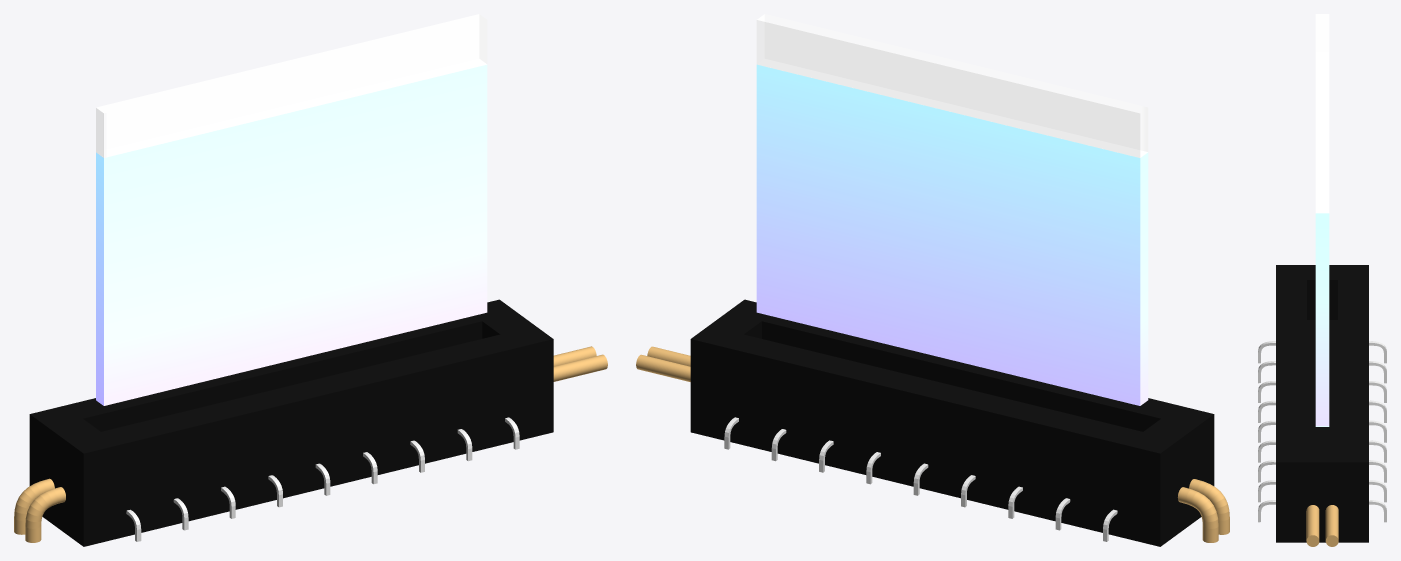
Rendered from betabd.glb.
3 views of the same model, side by side, from view 1: azimuth 30°, elevation 25°; view 2: azimuth 150°, elevation 25°; view 3: azimuth 270°, elevation 25° (orthographic). The views are drawn at different scales.
Parts seen in each view (by area): view 1: Cube.105, Base.001, Cube.106, Plane.218, Left-Energy-Connector.002, Left-Energy-Connector.006, Cylinder.011; view 2: Cube.105, Base.001, Cube.106, Plane.218, Left-Energy-Connector.006, Left-Energy-Connector.002, Cylinder.007; view 3: Base.001, Cube.105, Cube.106, Plane.218, Cylinder.011, Cylinder.007.
Part boxes in pixels (x1=…): Cube.105: x1=96, y1=64, x2=487, y2=405; Base.001: x1=29, y1=299, x2=553, y2=546; Cube.106: x1=96, y1=14, x2=487, y2=157; Plane.218: x1=126, y1=417, x2=519, y2=541; Left-Energy-Connector.002: x1=25, y1=487, x2=65, y2=542; Left-Energy-Connector.006: x1=14, y1=478, x2=54, y2=534; Cylinder.011: x1=553, y1=354, x2=607, y2=381; Cube.105: x1=756, y1=64, x2=1148, y2=405; Base.001: x1=690, y1=299, x2=1214, y2=546; Cube.106: x1=756, y1=14, x2=1148, y2=157; Plane.218: x1=724, y1=417, x2=1117, y2=541; Left-Energy-Connector.006: x1=1177, y1=487, x2=1218, y2=542; Left-Energy-Connector.002: x1=1189, y1=479, x2=1229, y2=534; Cylinder.007: x1=636, y1=354, x2=690, y2=381; Base.001: x1=1276, y1=265, x2=1368, y2=542; Cube.105: x1=1315, y1=213, x2=1329, y2=426; Cube.106: x1=1315, y1=14, x2=1329, y2=213; Plane.218: x1=1258, y1=341, x2=1386, y2=522; Cylinder.011: x1=1306, y1=505, x2=1319, y2=546; Cylinder.007: x1=1325, y1=505, x2=1338, y2=546.
Bounding box in the file's own units: 30.14 × 20.31 × 6.77.
